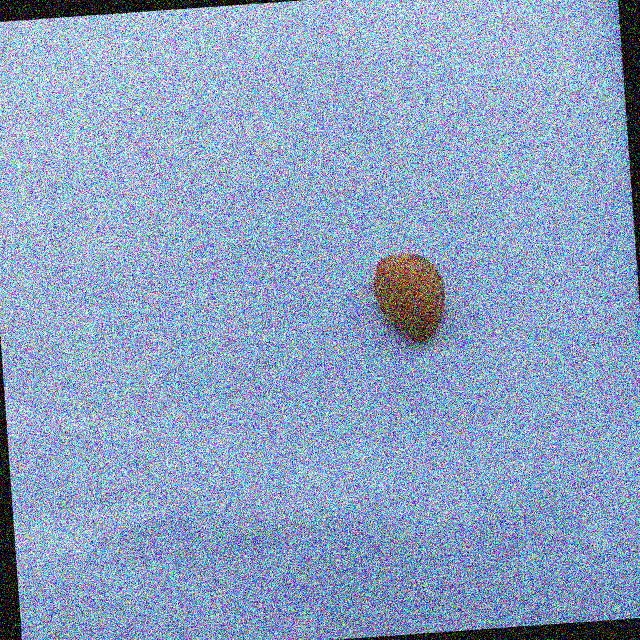grade2: (365, 248, 452, 349)
